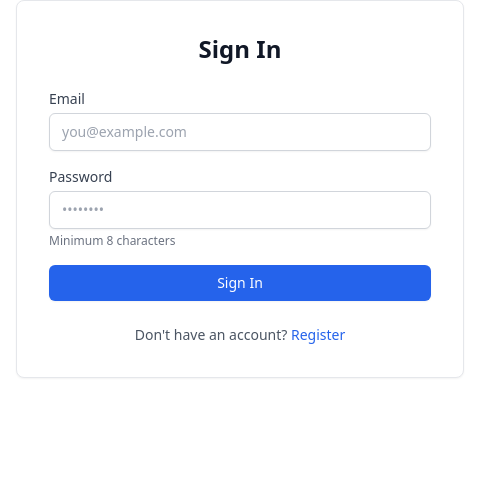
Test: AuthForm › register form validation › shows passwords do not match error
Click the button with aria-label "switch to register form".
click(318, 335)  # box [291,325,345,345]
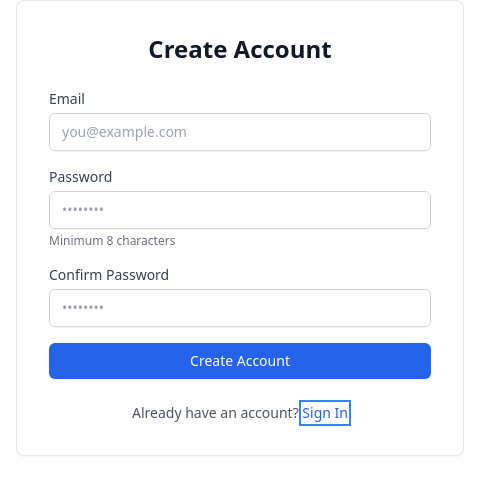
Type "test@example.com" into the field labelled "Email".
click(240, 132); type("test@example.com")  # box [49,113,431,151]
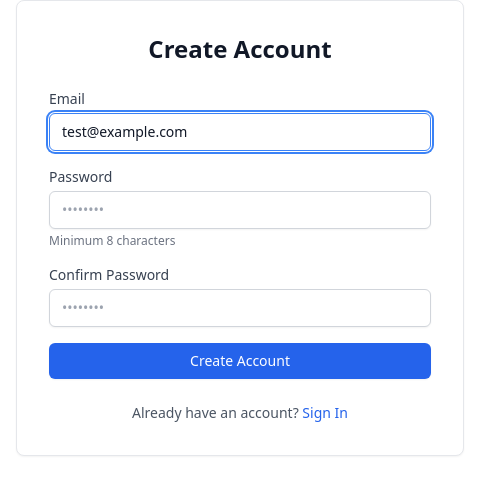
Type "password123" into the password field labelled "Password".
click(240, 210); type("password123")  # box [49,191,431,229]
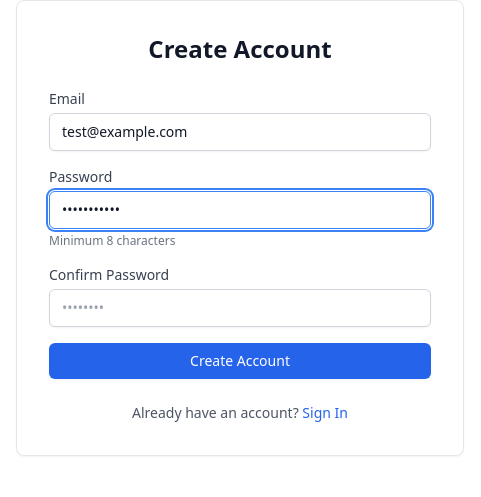
Type "differentpassword" into the password field labelled "Confirm Password".
click(240, 308); type("differentpassword")  # box [49,289,431,327]
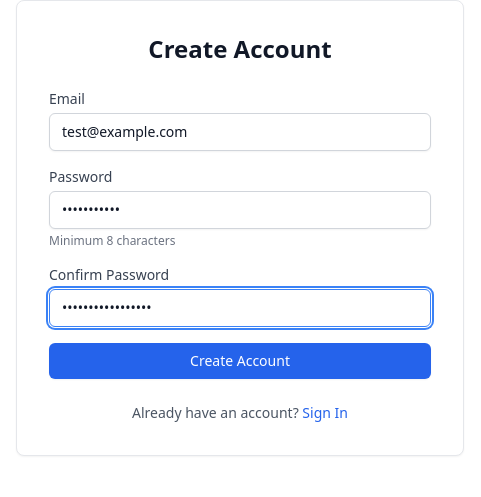
Click the button "Create Account".
click(240, 361)  # box [49,343,431,379]
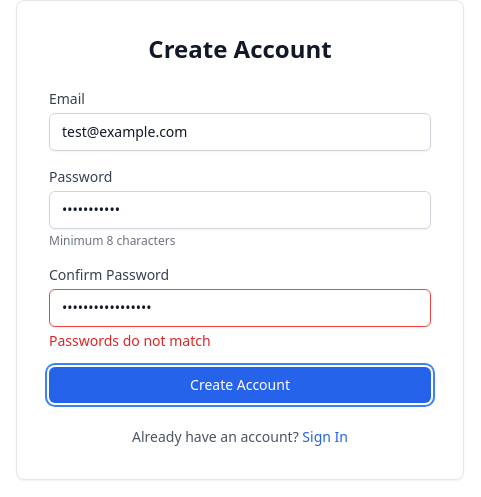
Now the text "Passwords do not match" is shown, box [49,331,211,350]
